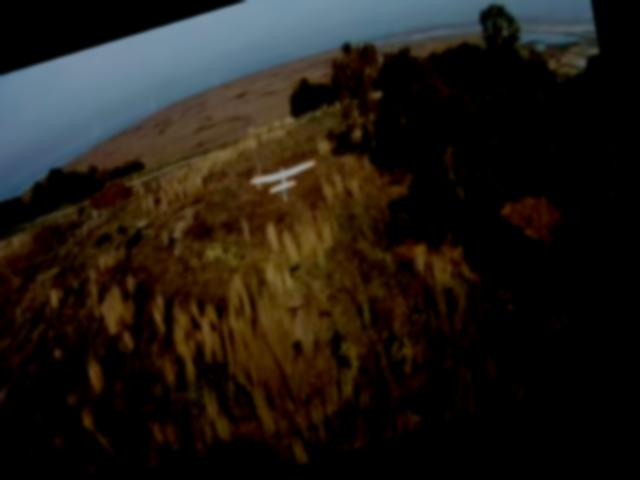uav: (243, 145, 337, 216)
